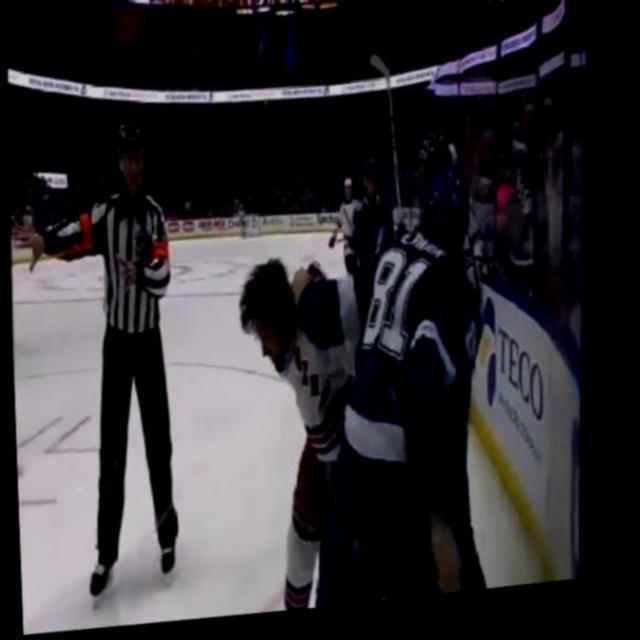fight: (225, 162, 490, 621)
